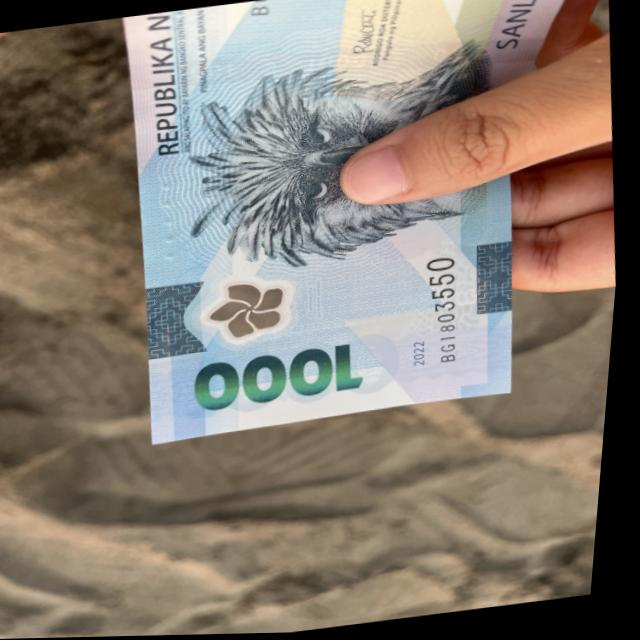eagle: (162, 33, 529, 296)
sampaguita: (195, 264, 316, 354)
